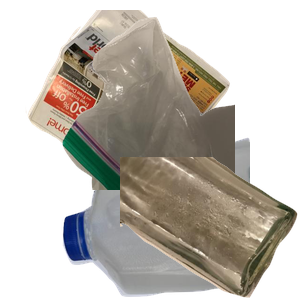glass: (120, 157, 300, 300)
paper: (23, 10, 245, 190)
plastic: (60, 135, 300, 300)
trash: (60, 14, 300, 194)
